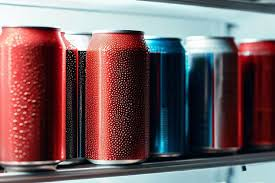can: (1, 22, 275, 167)
